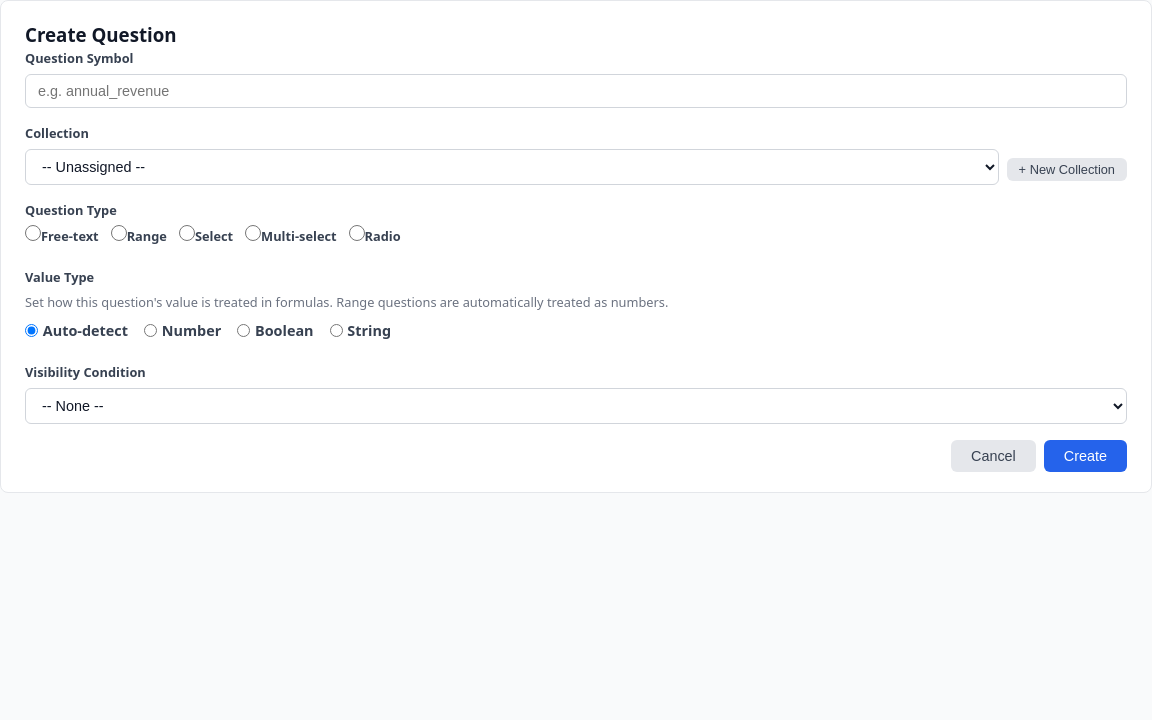
Test case: QuestionForm › given empty form › when submitted, then shows validation errors for required fields
The width and height of the screenshot is (1152, 720).
Click the button "Create".
click(1085, 456)  # box [1044,440,1127,472]
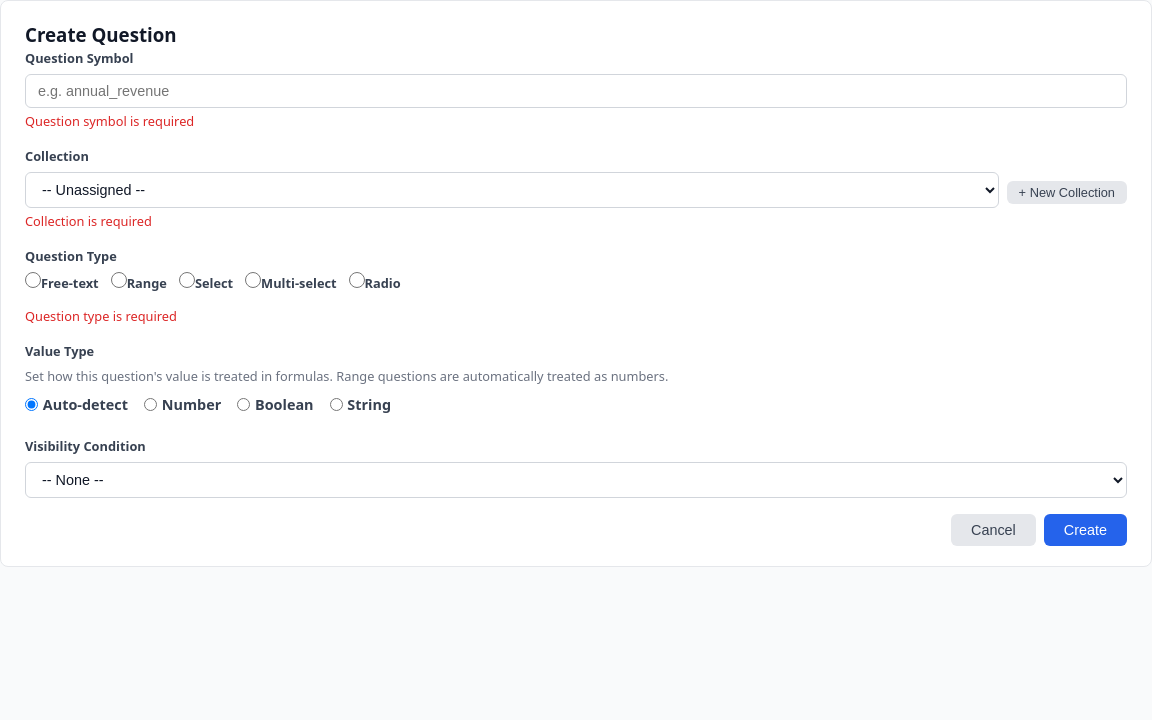
Expected: the text "Question symbol is required" is shown, [25,112,194,130]
Expected: the text "Collection is required" is shown, [25,212,152,230]
Expected: the text "Question type is required" is shown, [25,307,177,325]
